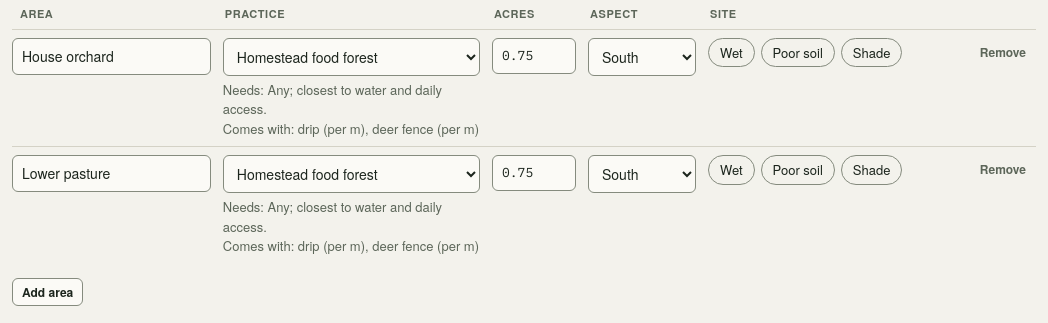
Scenario: AreasTable › removes an area and puts it back on undo
The width and height of the screenshot is (1048, 323).
Later steps or results of the test are not shown.
Click the button with aria-label "Remove area 1, House orchard".
click(1003, 52)  # box [970,38,1036,66]
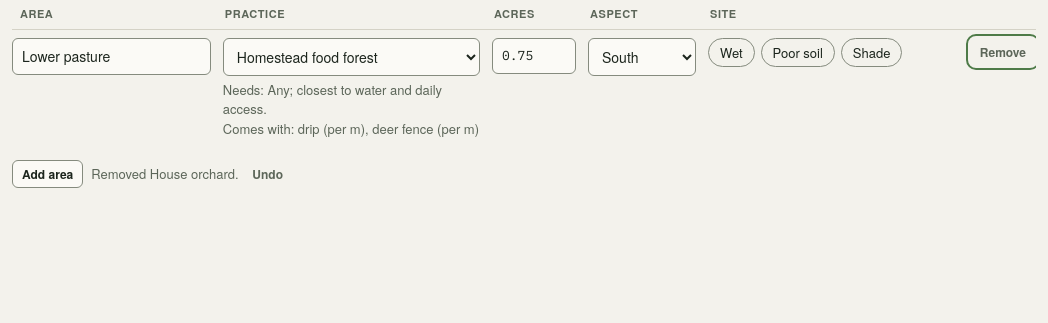
Expected: the message shows "Removed House orchard.", [91,160,293,188]
